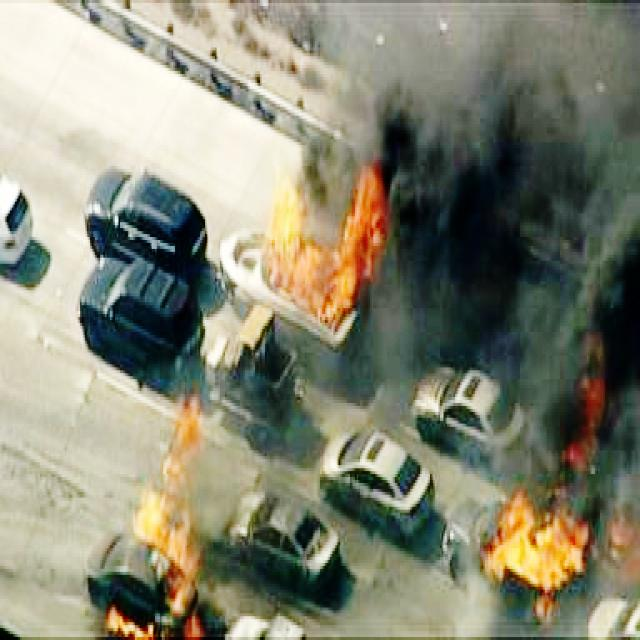api: (252, 164, 385, 335), (136, 377, 216, 640), (478, 497, 588, 593), (106, 604, 158, 640)
asap: (369, 8, 616, 367), (299, 1, 631, 238), (522, 190, 640, 492)
